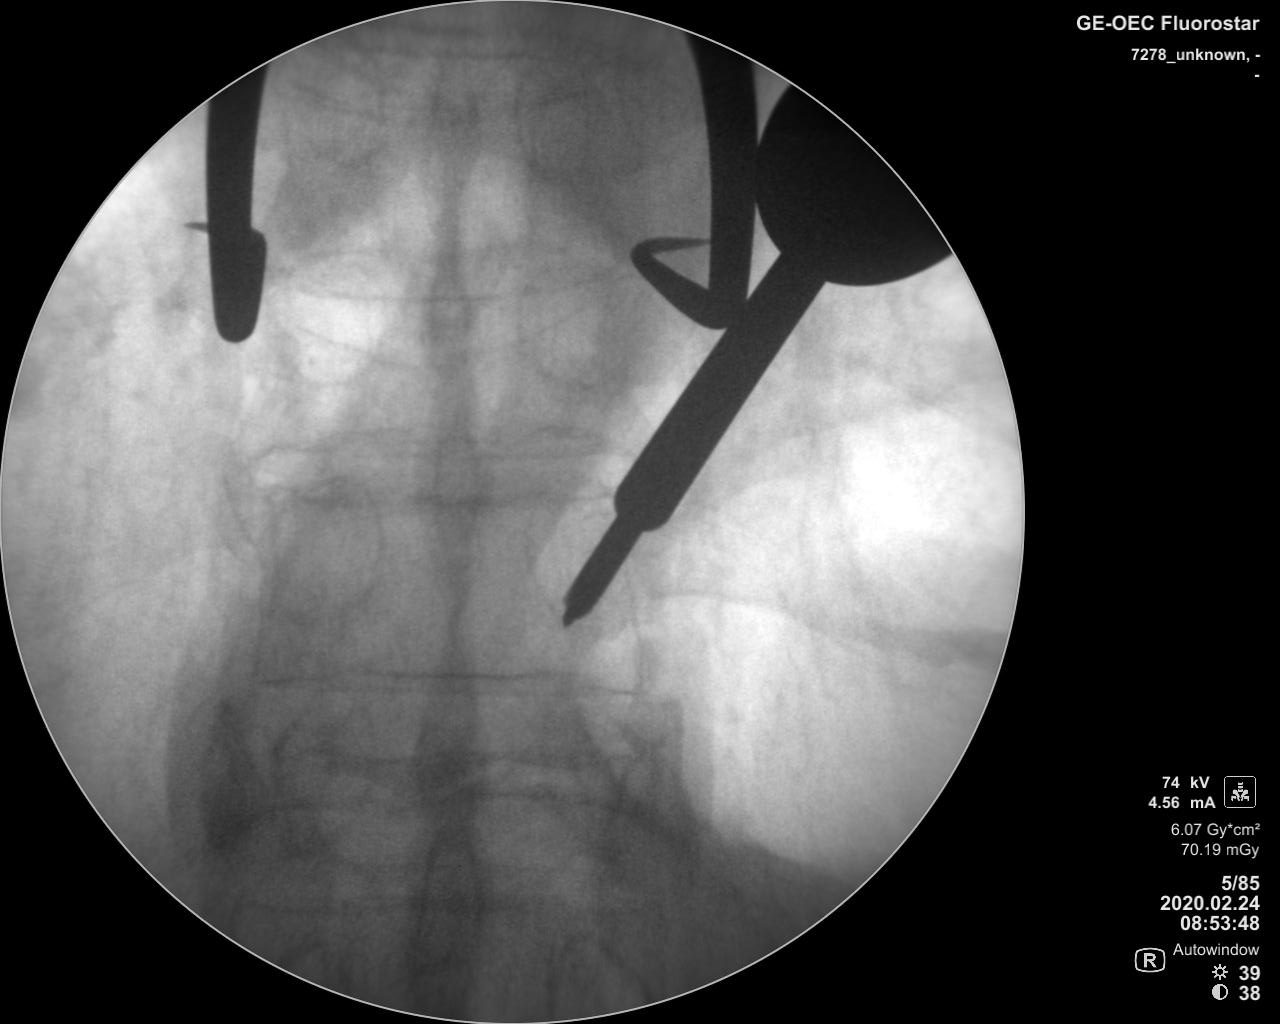eyes: (514, 243, 622, 396), (265, 480, 373, 621), (276, 252, 377, 395), (511, 56, 618, 177)
line: (265, 243, 619, 310), (237, 660, 651, 709), (251, 424, 622, 467)
nose: (406, 628, 491, 818), (419, 413, 493, 584), (409, 208, 481, 371), (414, 829, 485, 993), (421, 51, 481, 203)
